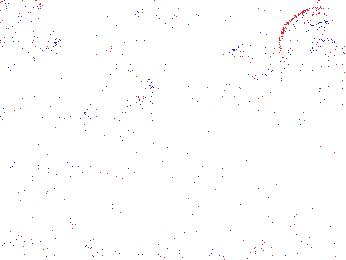moon jellyfish: (224, 48, 305, 133), (108, 3, 176, 91), (85, 72, 157, 146), (280, 6, 334, 84), (21, 78, 87, 129), (1, 1, 55, 53)
